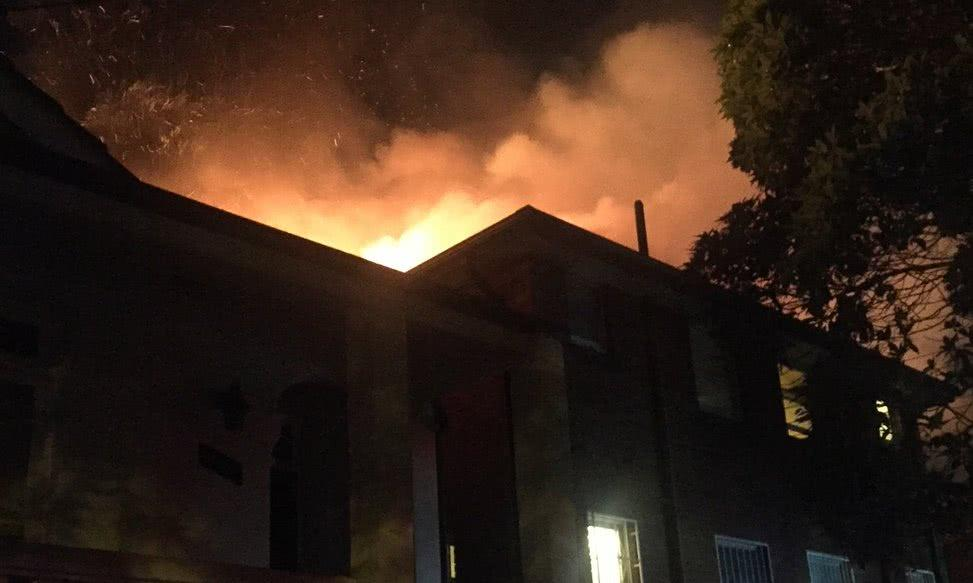Fire: (372, 153, 514, 285)
